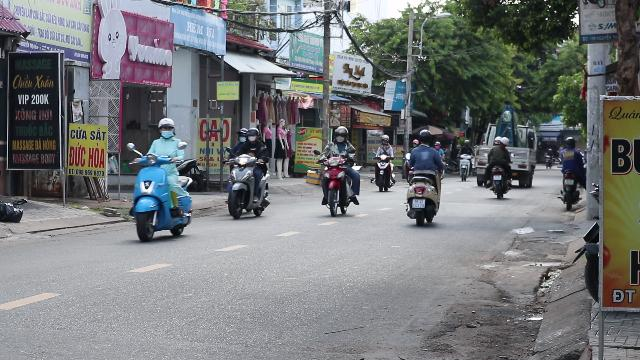helmet: (157, 118, 176, 138), (332, 125, 348, 141), (247, 127, 260, 142), (237, 127, 247, 141)
motorcyclist: (126, 116, 194, 242), (223, 126, 273, 220), (314, 124, 361, 216)
